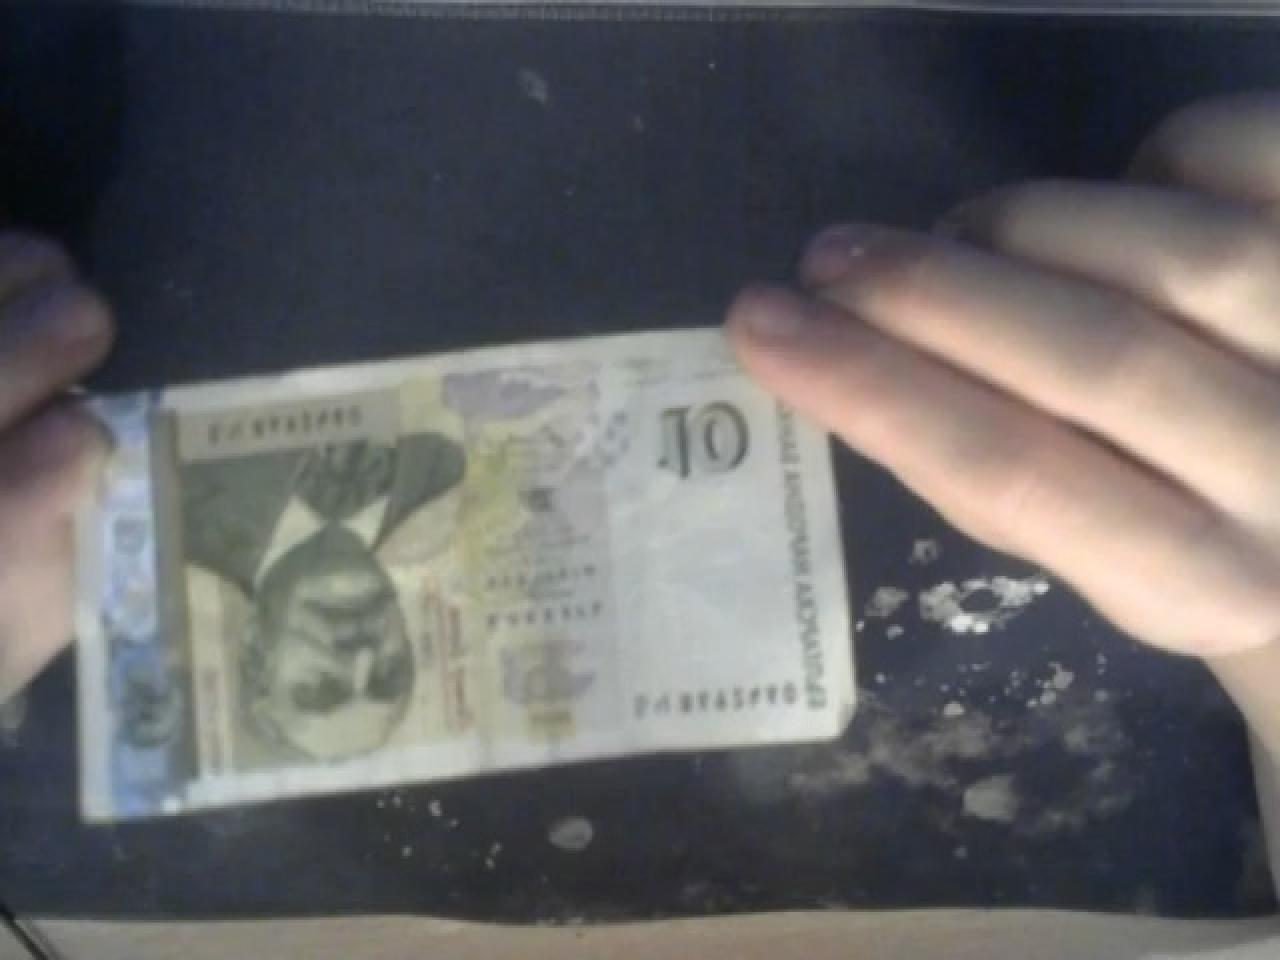10leva: (80, 323, 860, 819)
